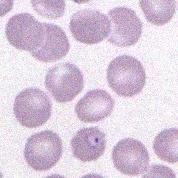Infected: (71, 126, 106, 162)
Uninfected: (28, 22, 70, 62), (106, 55, 145, 98), (5, 13, 46, 52), (45, 62, 84, 103), (70, 8, 112, 45), (104, 7, 142, 47), (14, 87, 52, 127), (24, 131, 62, 170), (112, 137, 150, 175), (74, 89, 114, 123), (139, 0, 175, 25), (153, 128, 178, 164)
